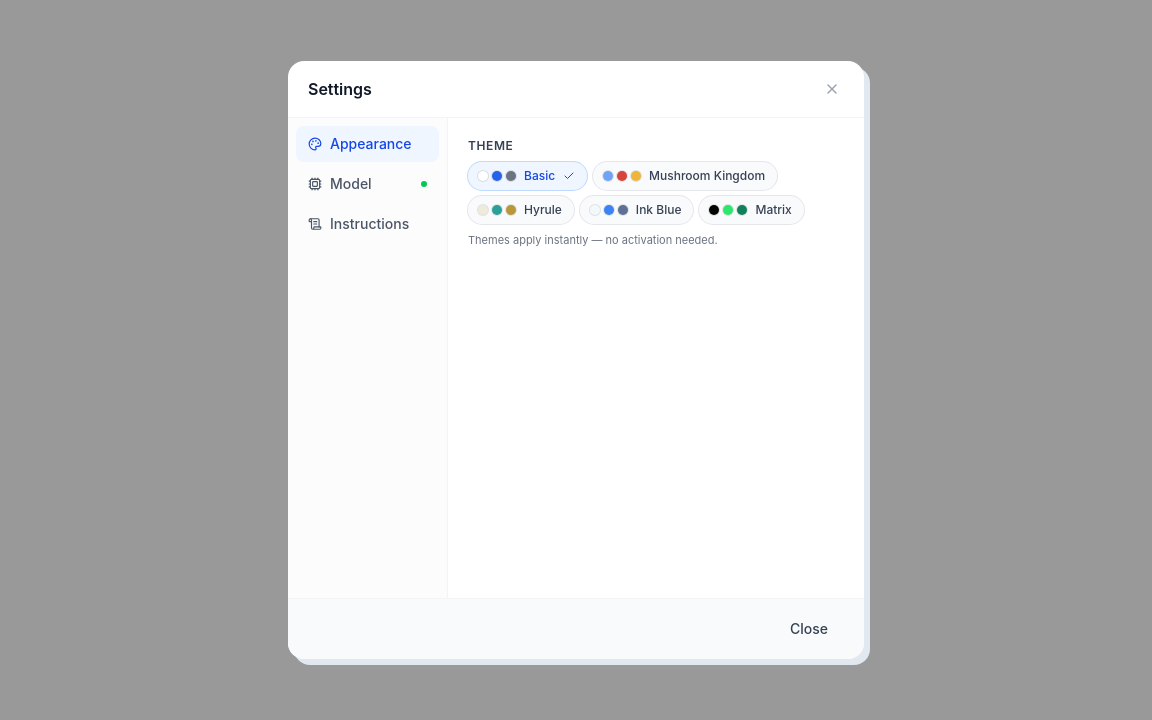
SettingsModal – custom instructions (Instructions tab) › shows the saved text, the switch and a character counter
The width and height of the screenshot is (1152, 720).
Check: the text "Theme" is shown, box x1=468 y1=138 x2=514 y2=153
Click the button "Instructions". click: click(368, 224)
box: x1=296 y1=206 x2=439 y2=242
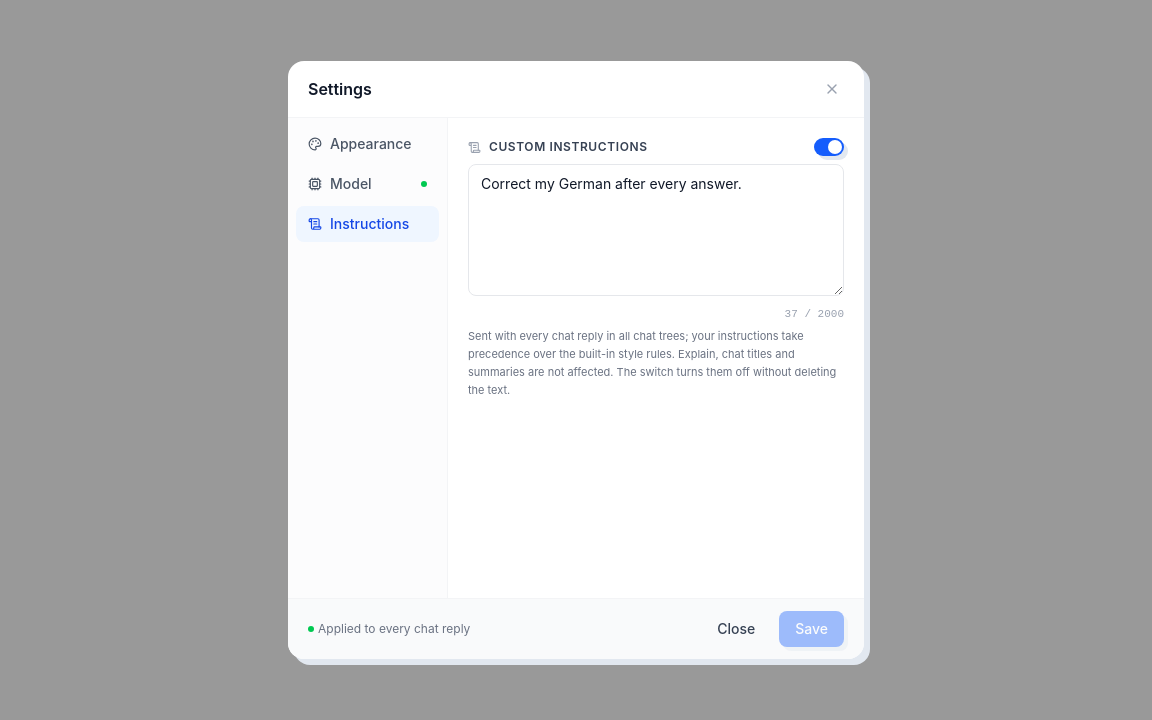
Check: the text box labelled "Custom instructions" holds "Correct my German after every answer.", box x1=468 y1=164 x2=844 y2=296
Check: the switch is checked, box x1=814 y1=138 x2=844 y2=156
Check: the text "37 / 2000" is shown, box x1=785 y1=308 x2=844 y2=320
